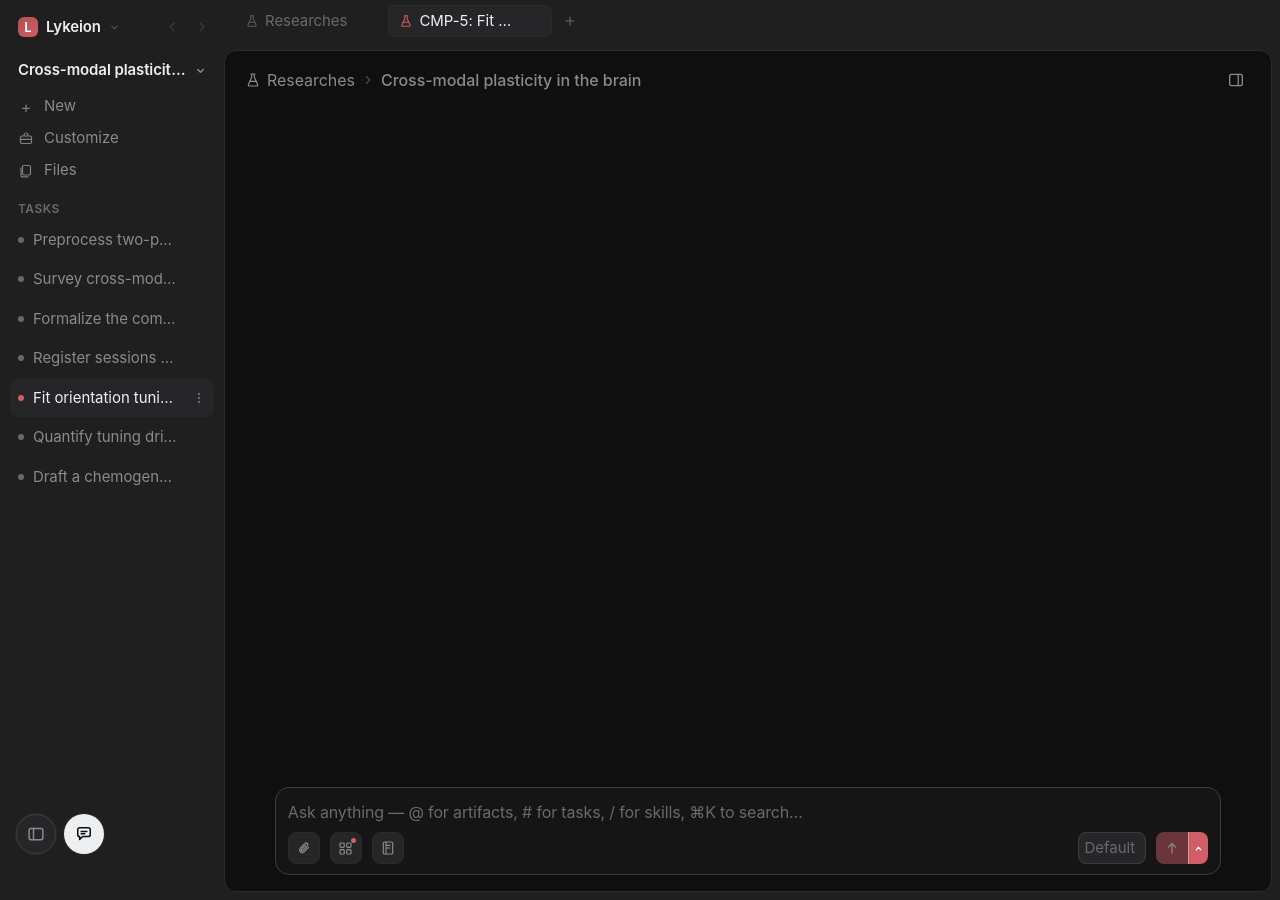
a chat's title › takes the first message, replacing the placeholder New mints
Click the button "+ New" at (112, 106), box [10,90,214,122]
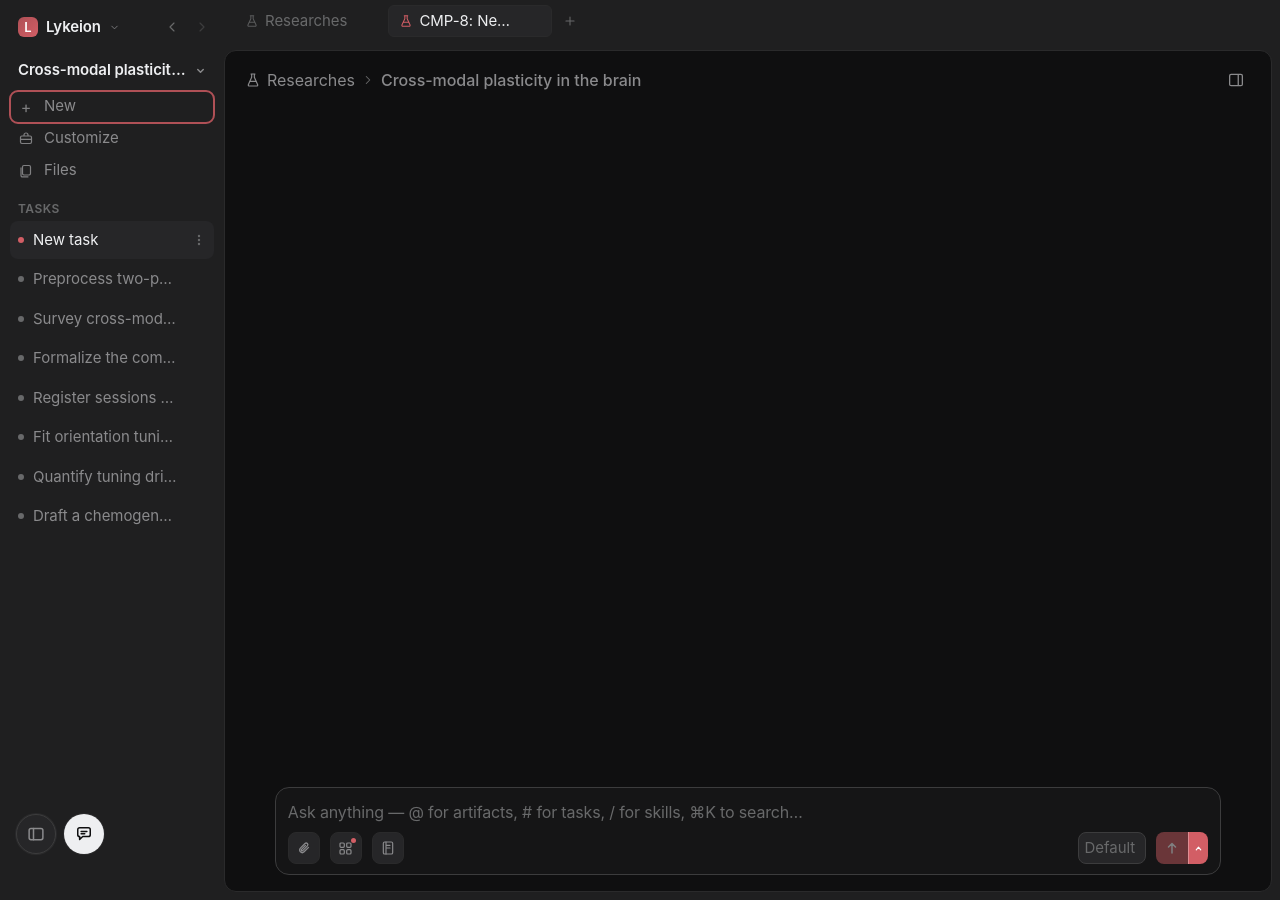
Type "quantify the tuning drift after deprivation" into the text box named "Message the agent" at (748, 812), box [288,800,1208,824]
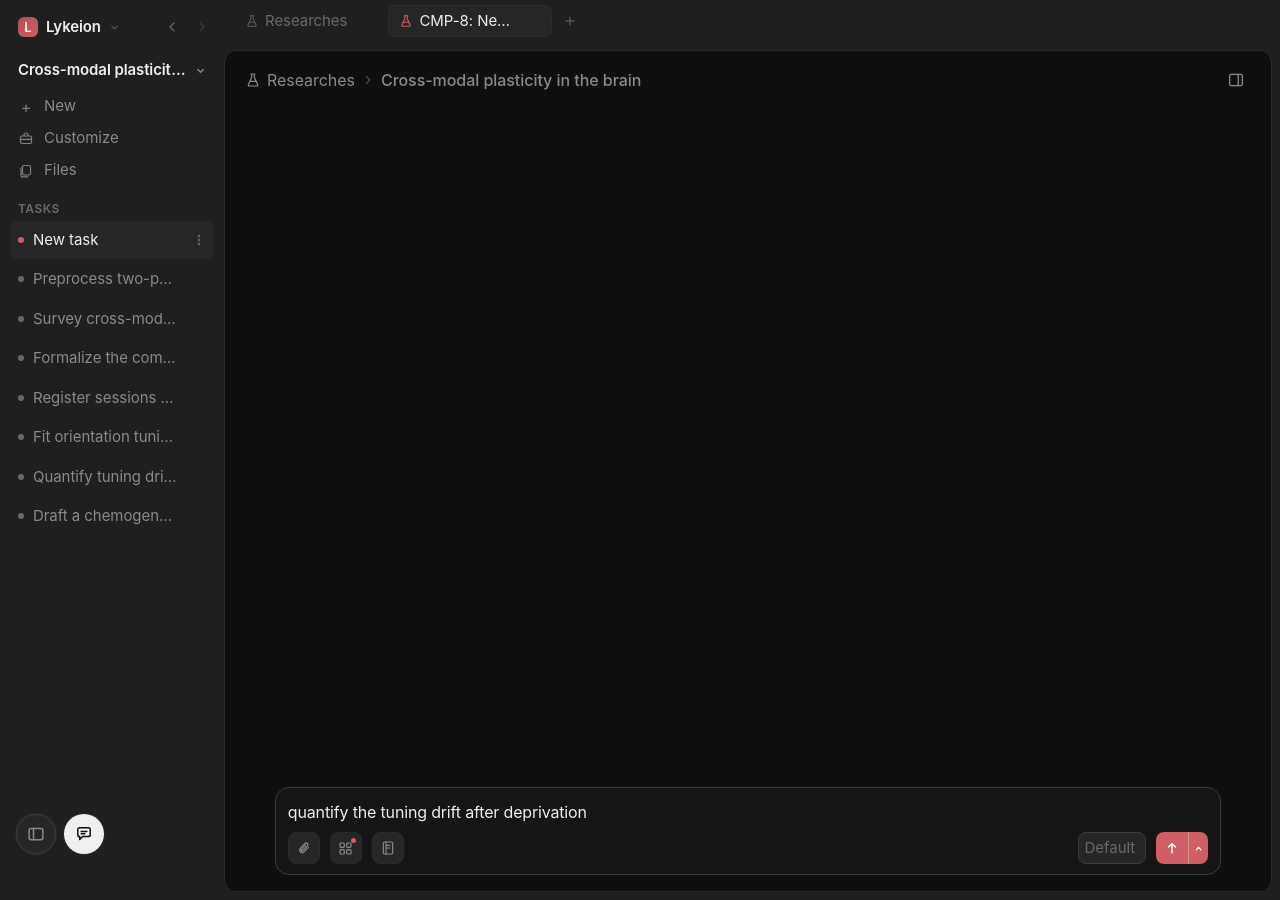
Click the button named "Send" at (1172, 848), box [1156,832,1188,864]
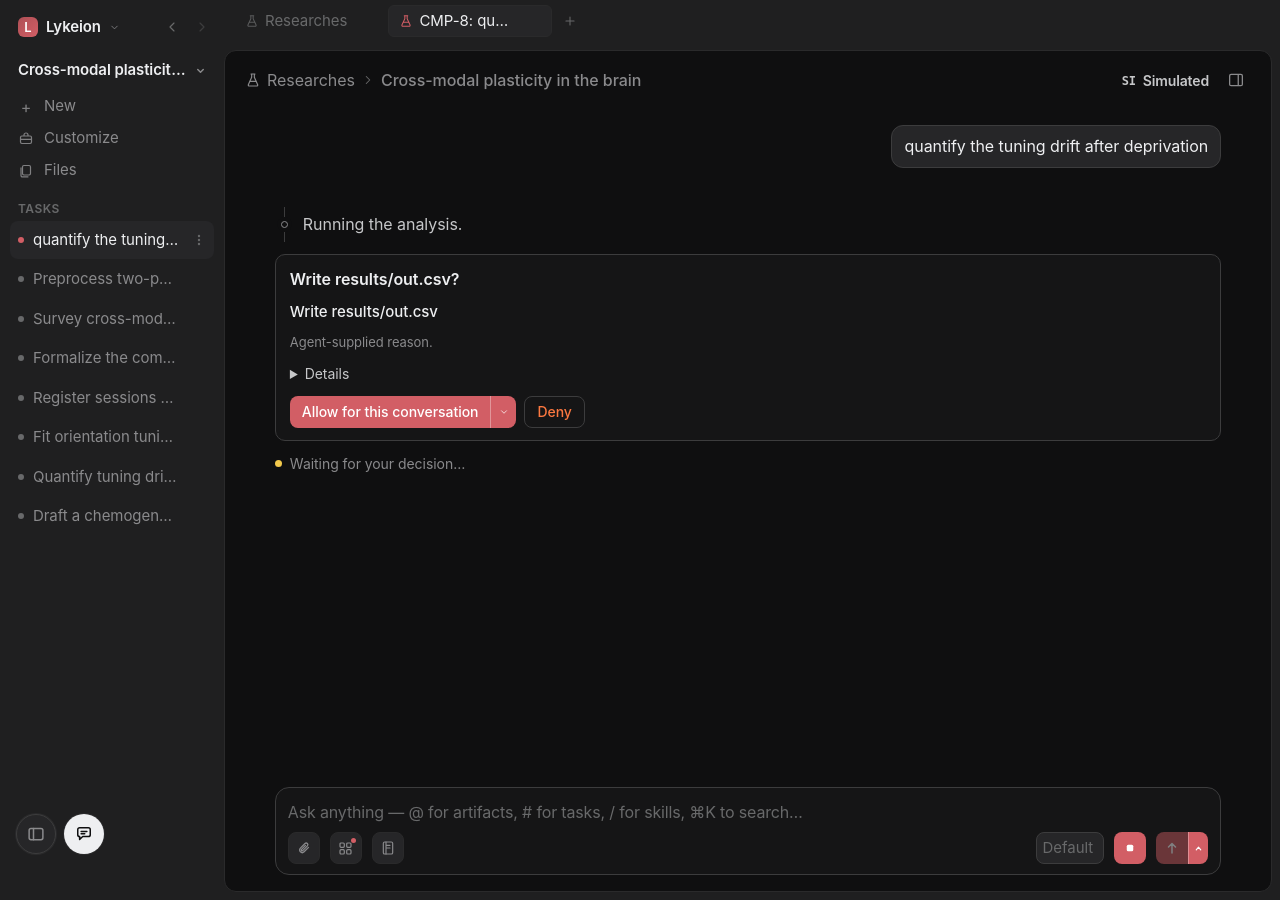
Now the text "quantify the tuning drift after deprivation" is shown, box [33,229,180,251]
Now the button "quantify the tuning drift after deprivation" is shown, box [10,221,188,259]
